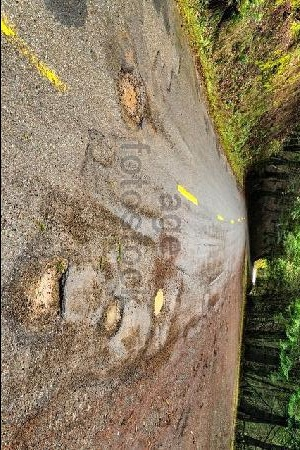pothole: (26, 257, 69, 324), (115, 63, 146, 131), (96, 296, 126, 338), (151, 285, 167, 320)
